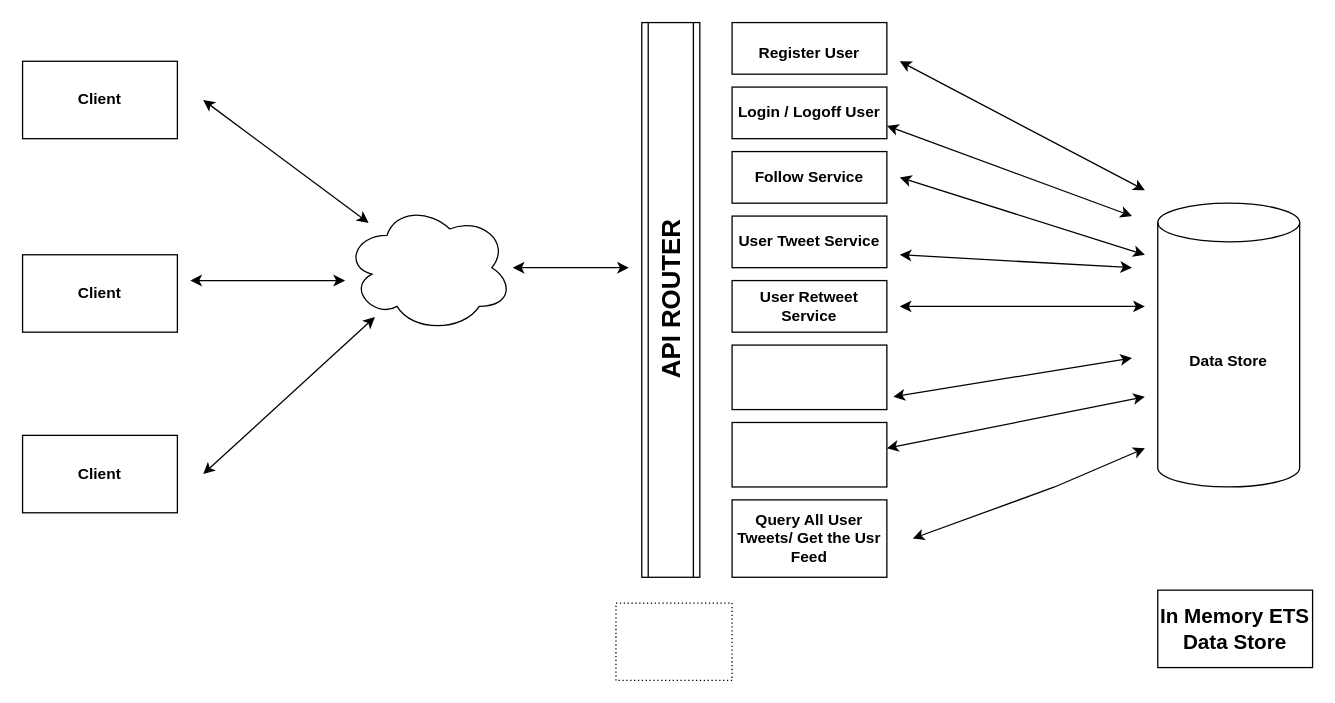
Some shapes in this 1335 by 703 pixel diagram are drawn without their labels. The shapes that lost their labels are listed below. From the top down, each one's centre as x and y in pixels, then its label:
At (428,267): "TCP CALLS".
At (809,377): "Query By Hashtags".
At (809,454): "Query By Mentions".
At (673,641): "Server".
